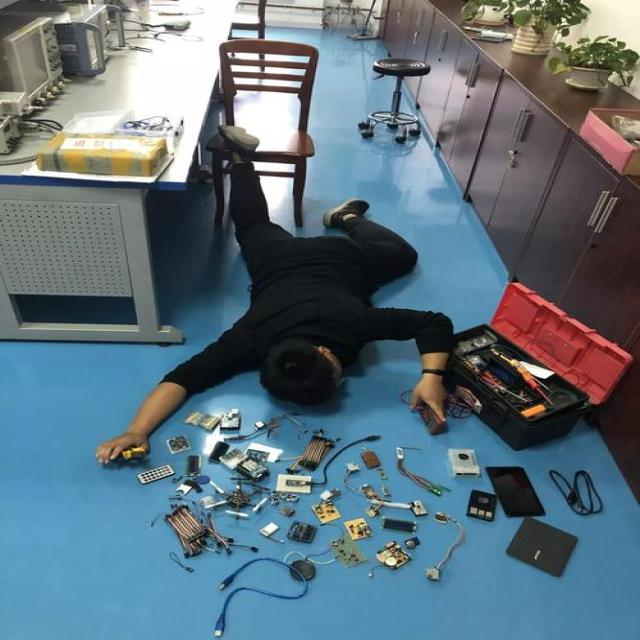fall: (187, 138, 445, 429)
